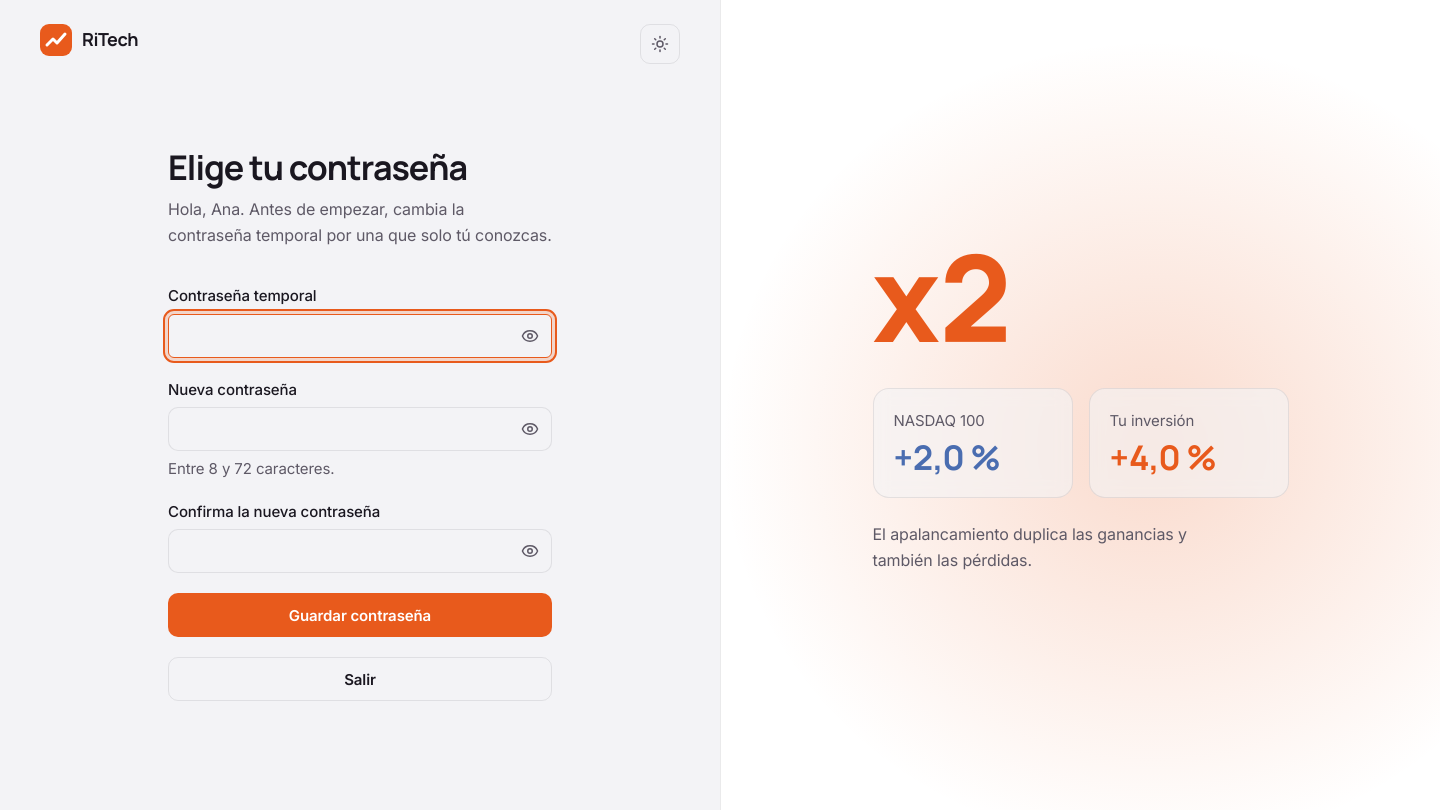
Test case: ChangePassword › no acepta repetir la contraseña actual
Step 1. Type "temporal-123" into the password field labelled "Contraseña temporal" → (360, 336), box [168, 314, 552, 358]
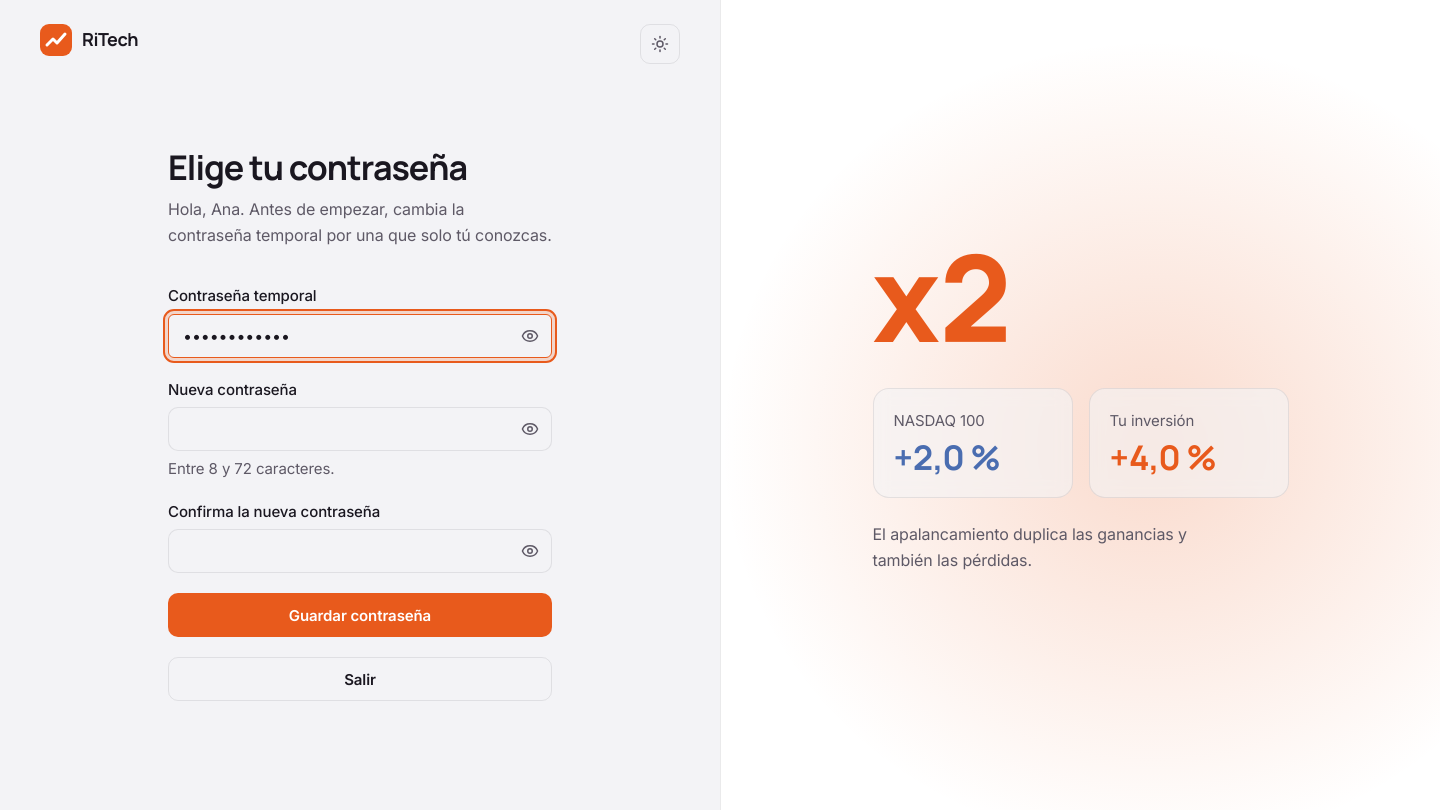
Step 2. Type "temporal-123" into the password field labelled "Nueva contraseña" → (360, 429), box [168, 407, 552, 451]
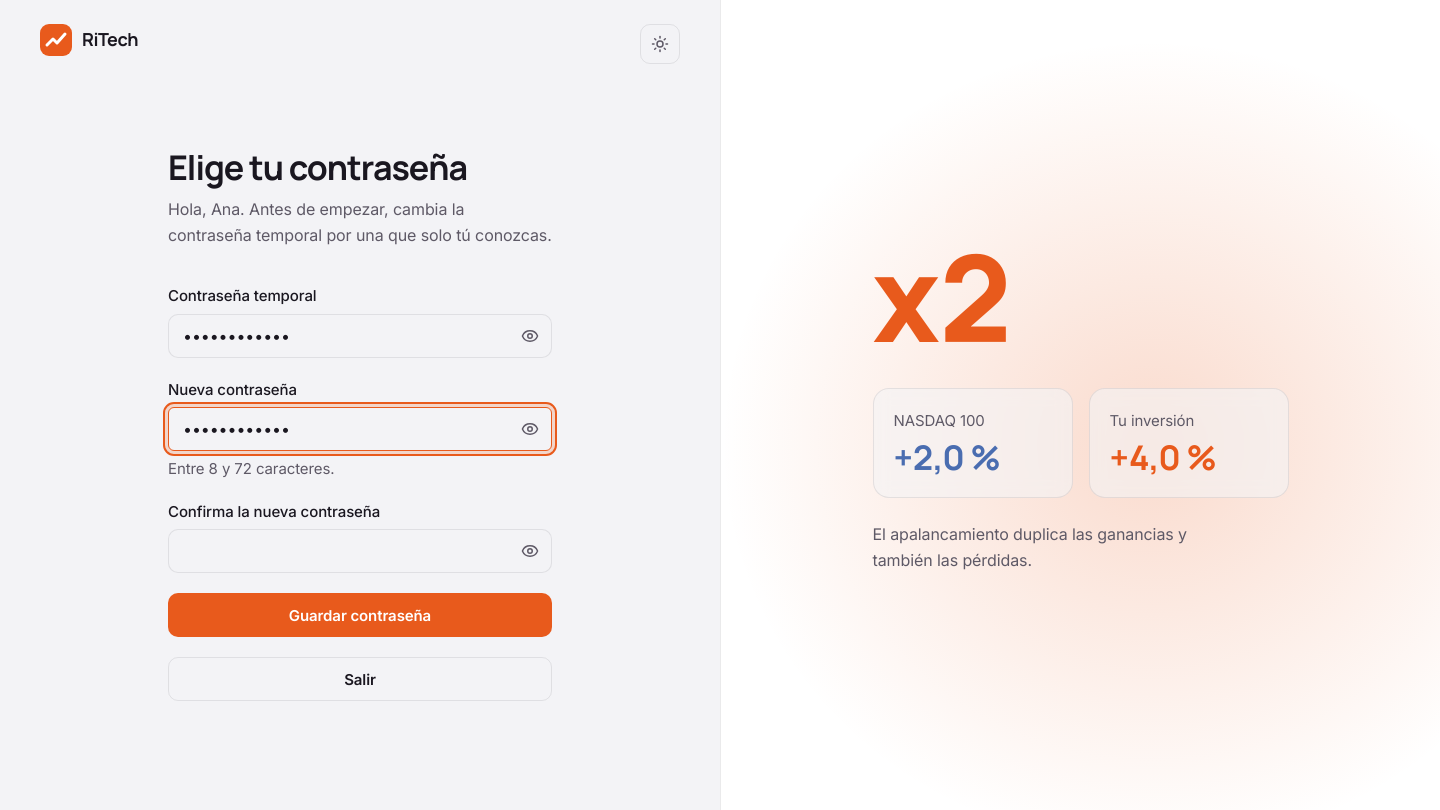
Step 3. Type "temporal-123" into the password field labelled "Confirma la nueva contraseña" → (360, 552), box [168, 530, 552, 574]
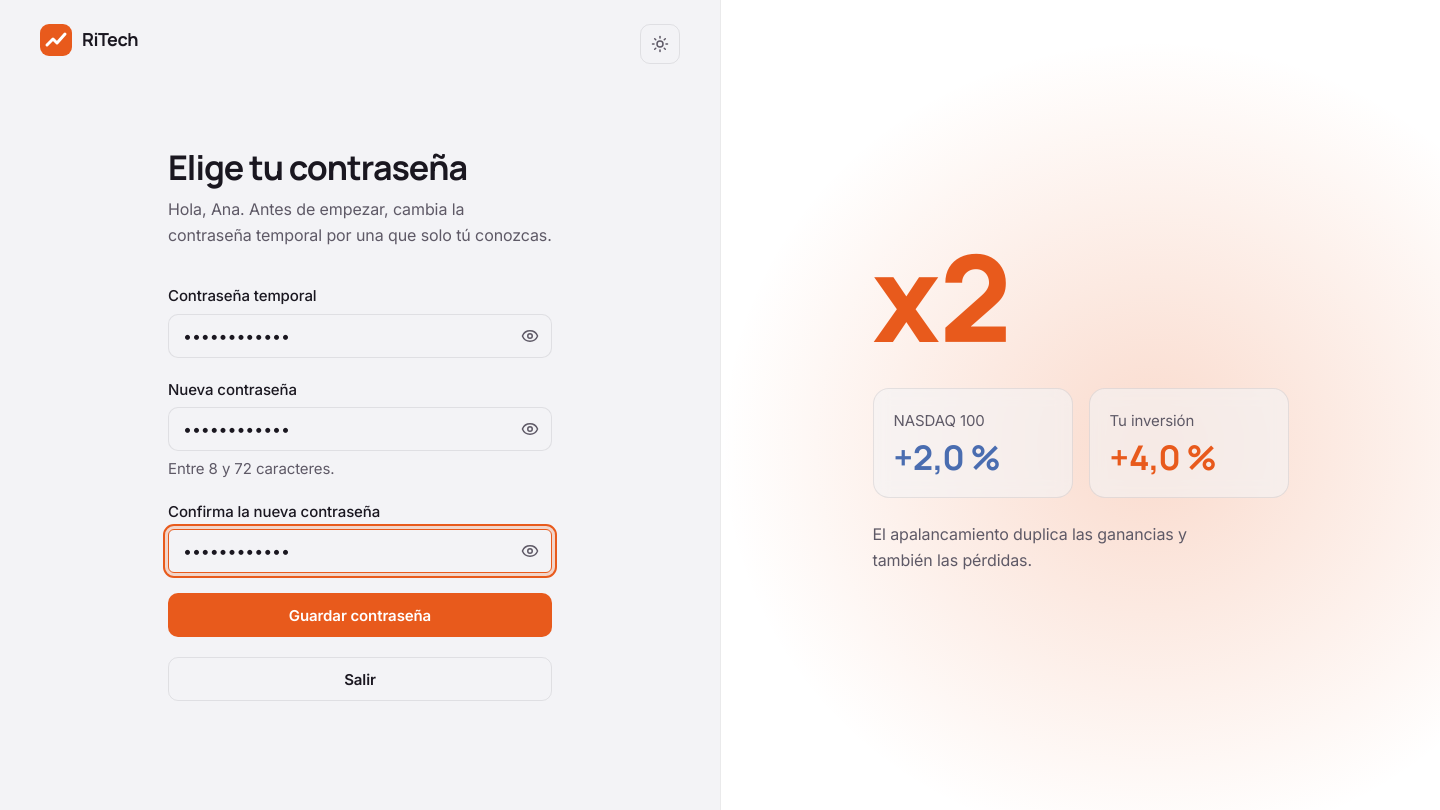
Step 4. Click the button "Guardar contraseña" → (360, 616), box [168, 594, 552, 638]
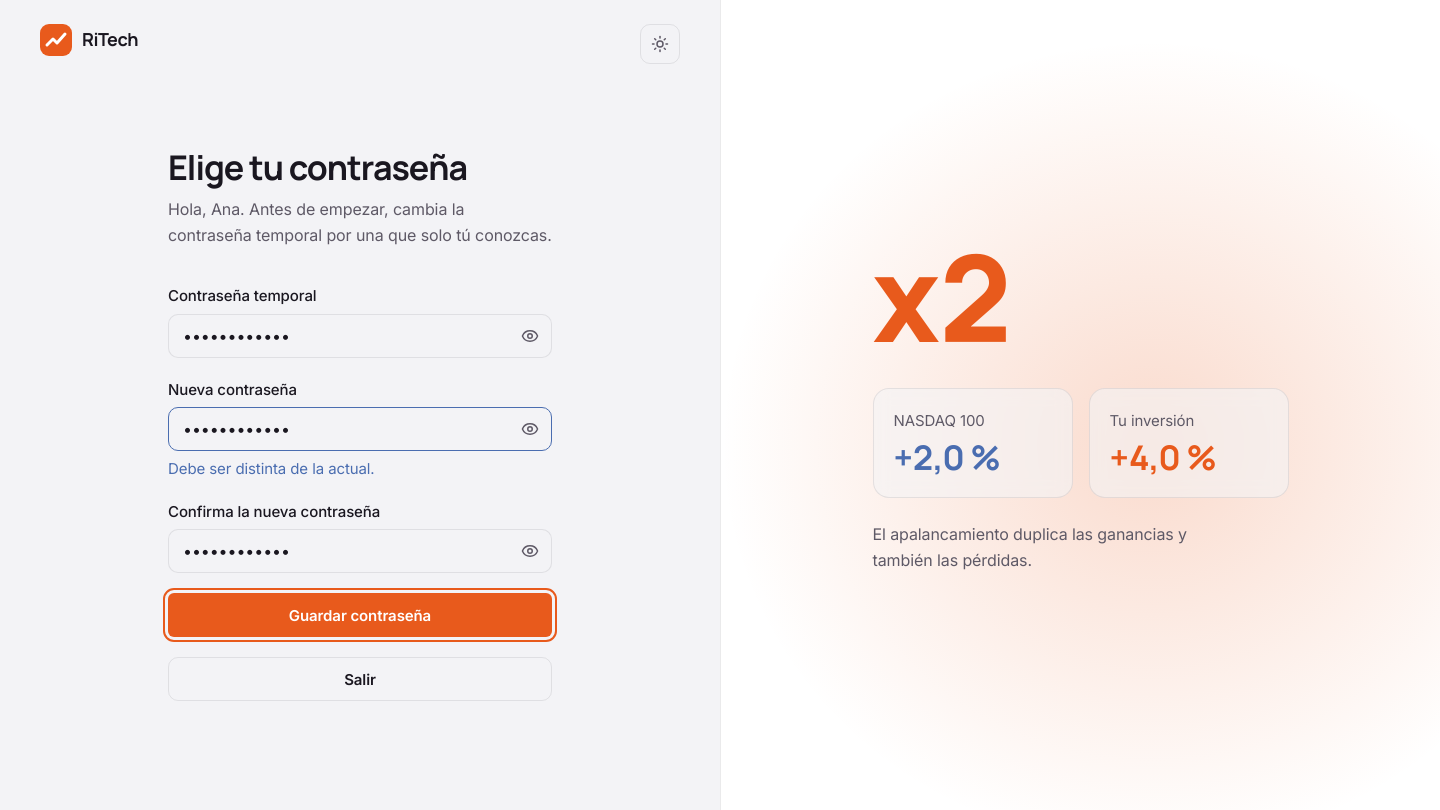
Expected: the text "Debe ser distinta de la actual." is shown, [168, 459, 375, 478]
